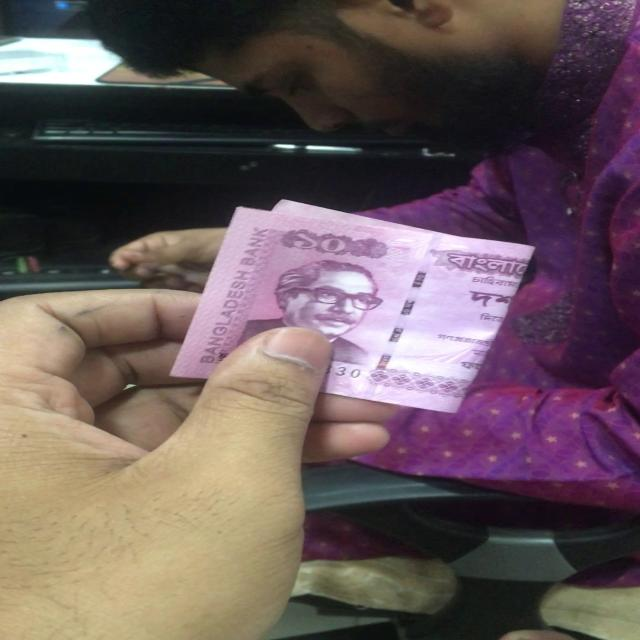Taka: (176, 200, 540, 415)
